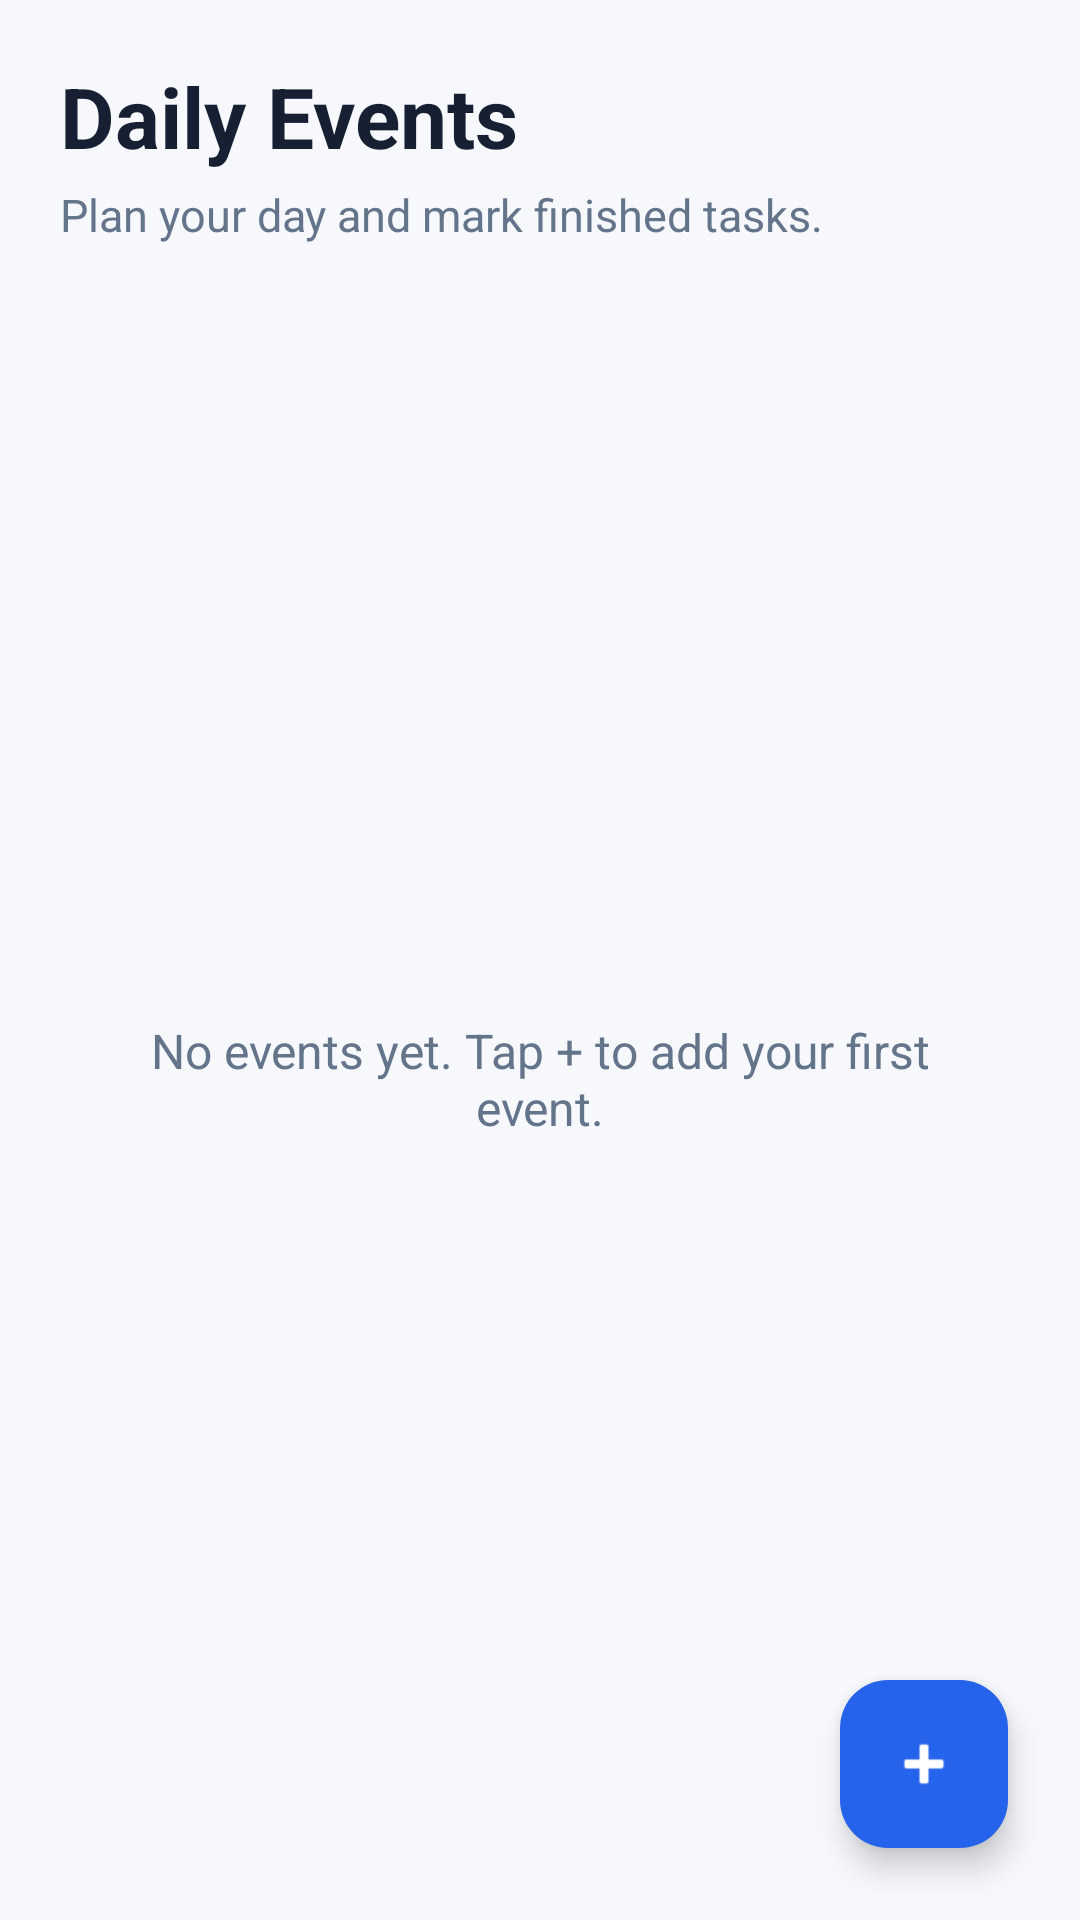

Icon bounding boxes for this 1080×1920 phone screenshot, format (x1, y1, x2, y2):
Add Event: (840, 1680, 1008, 1848)
